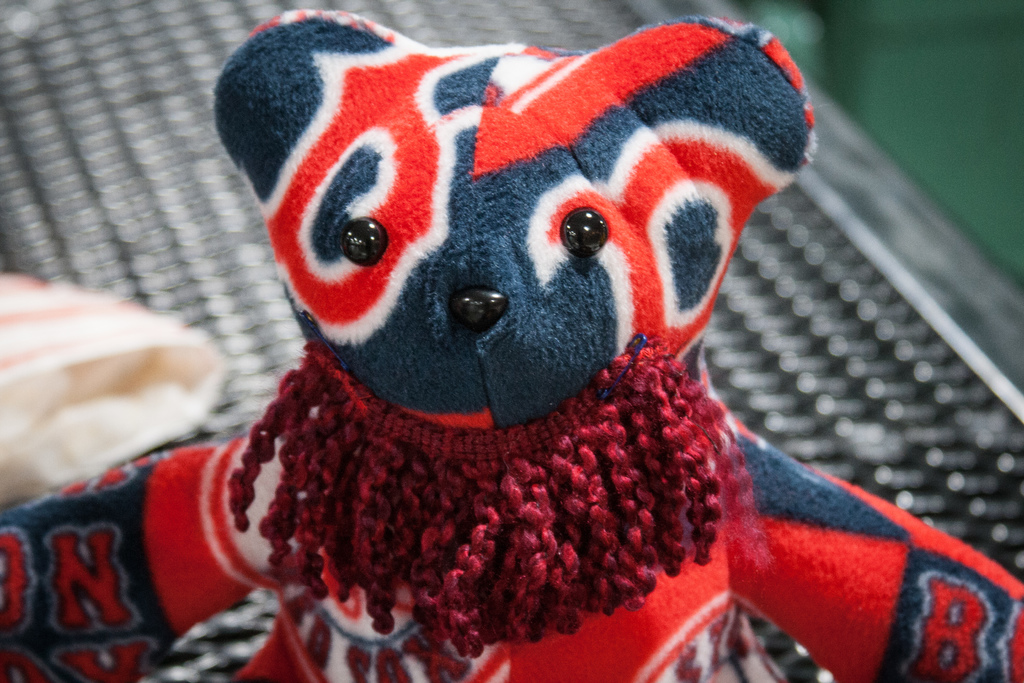Animal: (0, 8, 1022, 681)
